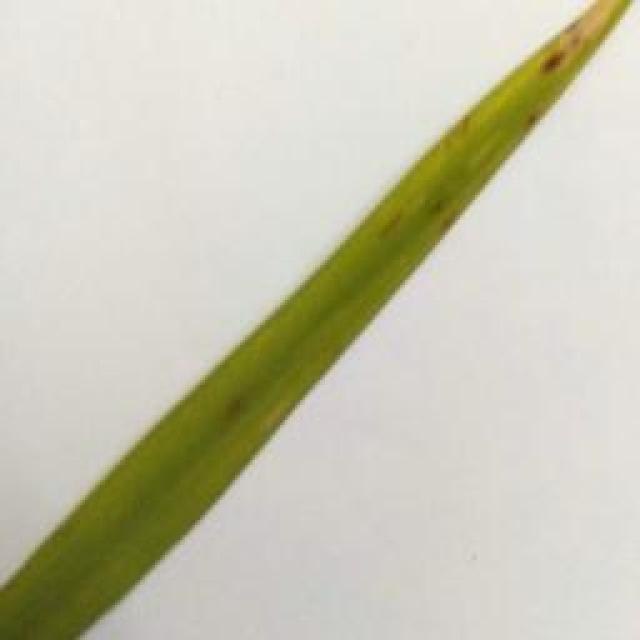Brown_Spot: (532, 21, 579, 81), (425, 198, 467, 240), (371, 204, 410, 243), (512, 110, 554, 144), (444, 110, 478, 140), (215, 395, 249, 420)
